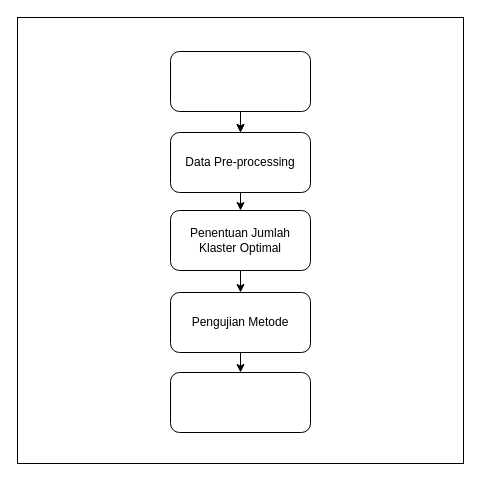
The diagram is 481 pixels wide and 481 high, and some of its shapes have lost their labels. Here are the shapes that lost their labels. From the top down, the box of each, then its label:
(170, 50, 310, 112): Ekstraksi Fitur
(170, 372, 310, 432): Analisa Hasil Pengujian
